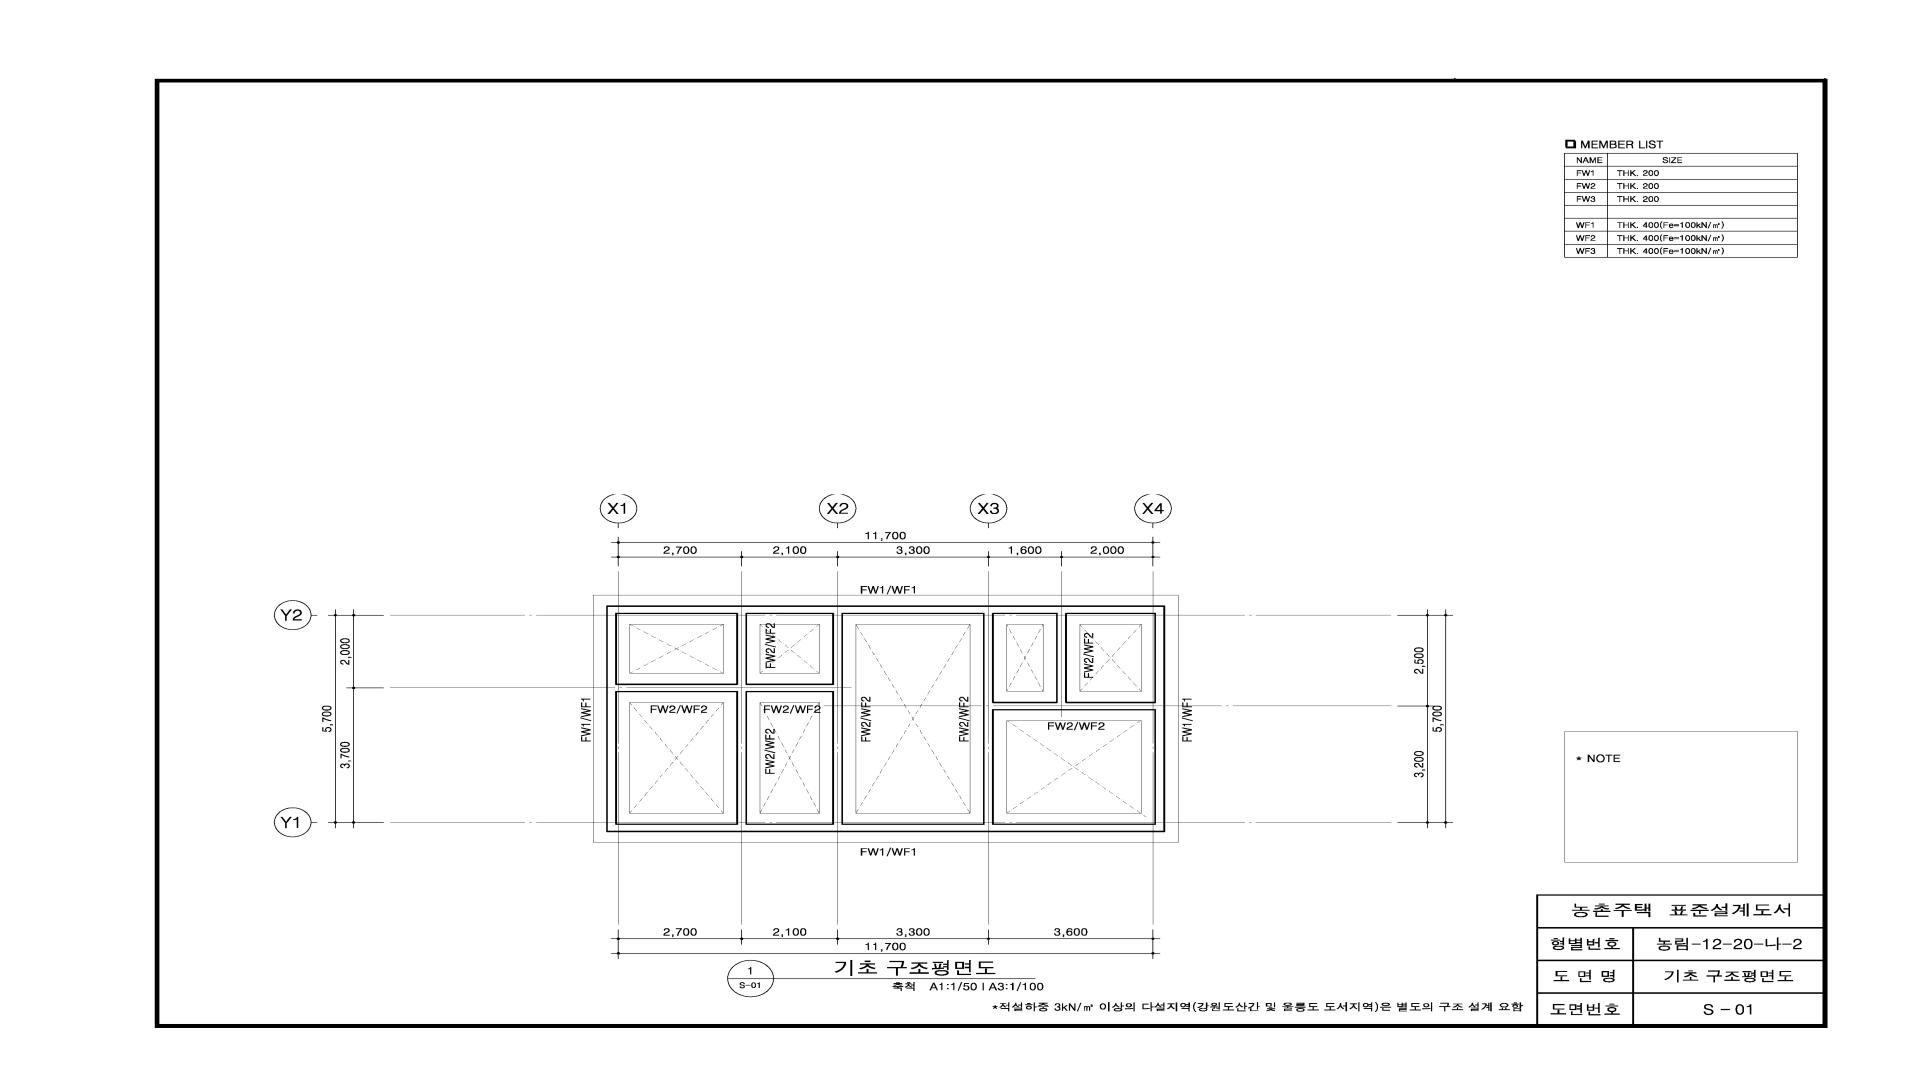wall: (832, 605, 984, 832), (607, 605, 736, 832), (982, 702, 1166, 832), (736, 605, 832, 832), (982, 605, 1166, 702), (982, 711, 994, 824)
